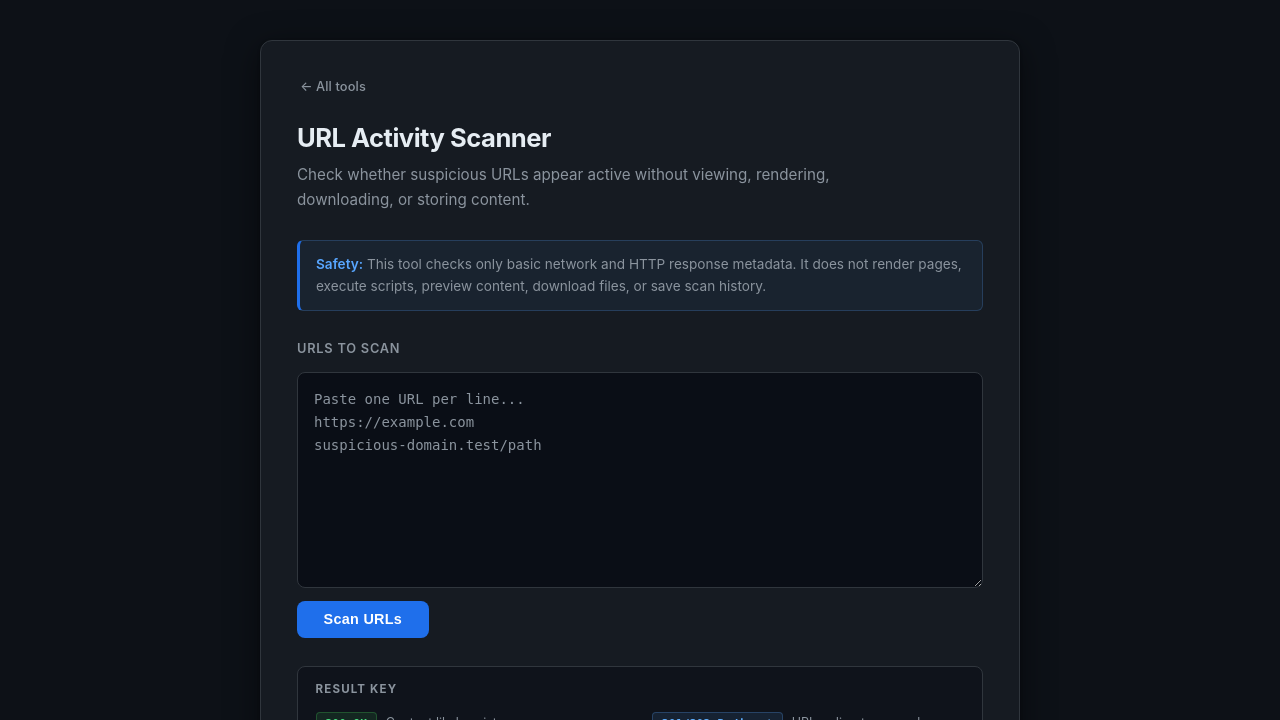
Test: R6 — export reachability › keeps a single Export CSV button in the results toolbar next to the heading
Replace the text in the text box with "https://host-0.example.test/" at (640, 480), box left=297, top=372, right=983, bottom=588
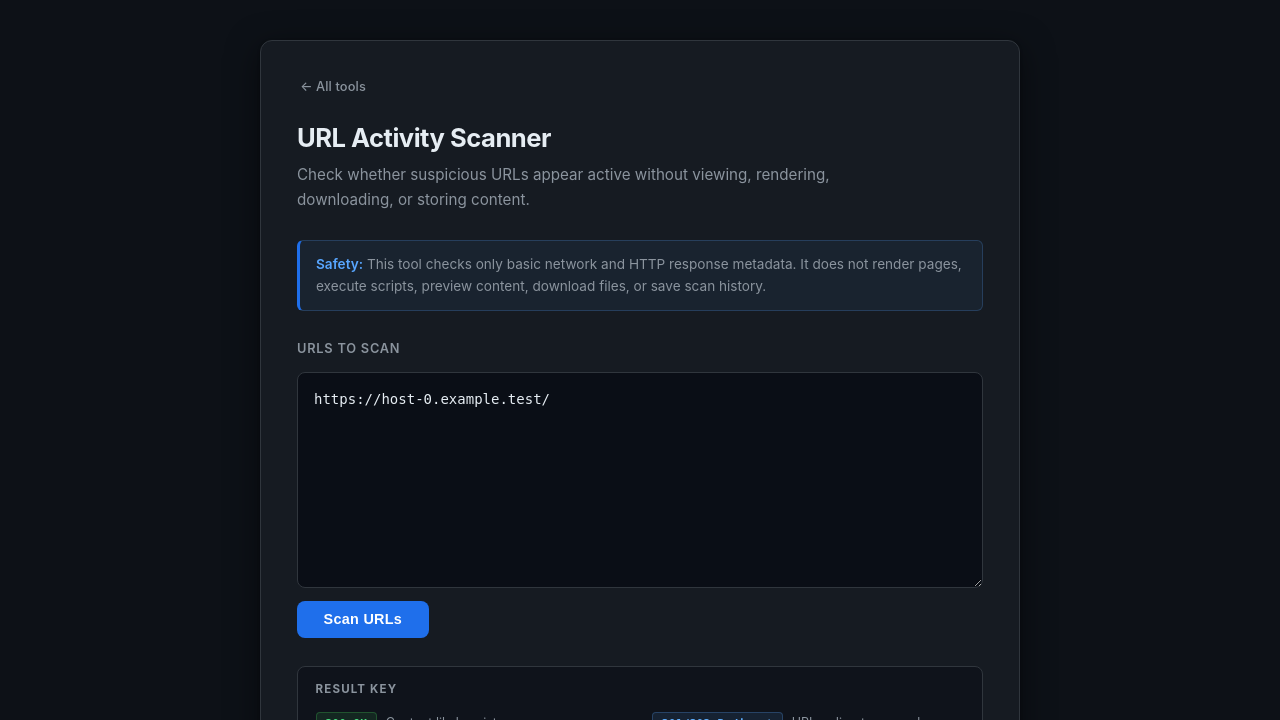
Click the button "Scan URLs".
click(363, 619)  # box left=297, top=601, right=429, bottom=638
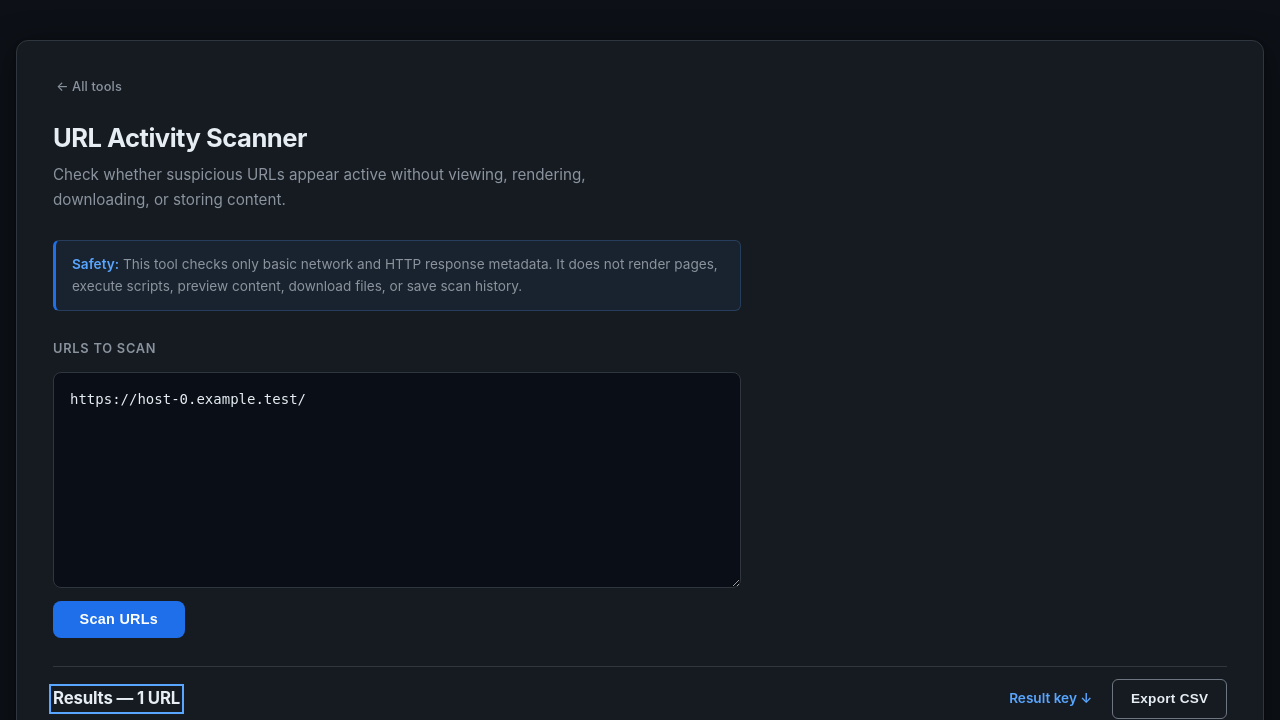
Expected: the number of buttons "Export CSV" is 1, left=1112, top=679, right=1227, bottom=719
